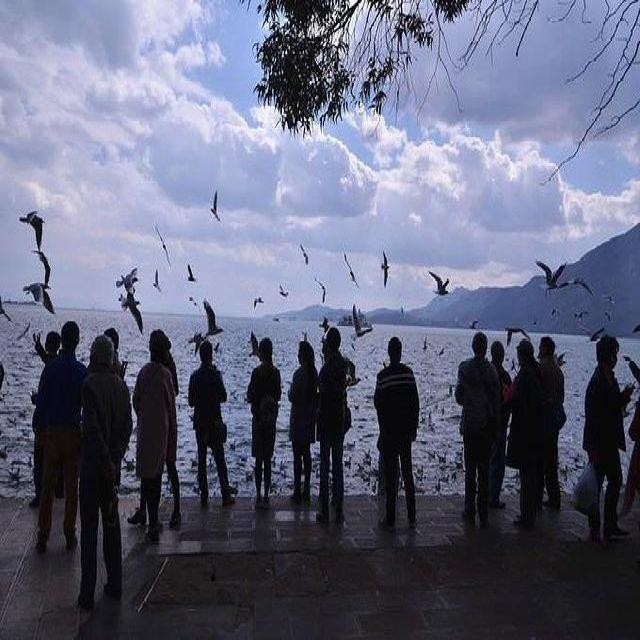non-fight: (26, 318, 131, 617), (574, 329, 634, 542), (450, 330, 510, 532), (505, 334, 566, 529), (371, 336, 422, 536), (132, 328, 181, 535), (313, 326, 356, 534), (187, 336, 234, 510), (244, 335, 283, 503)
